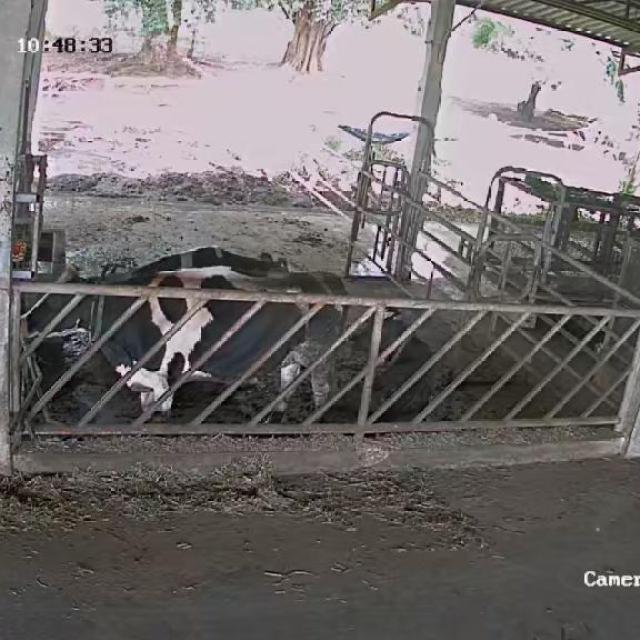lying down: (348, 305, 449, 428)
standing: (27, 263, 344, 427)
